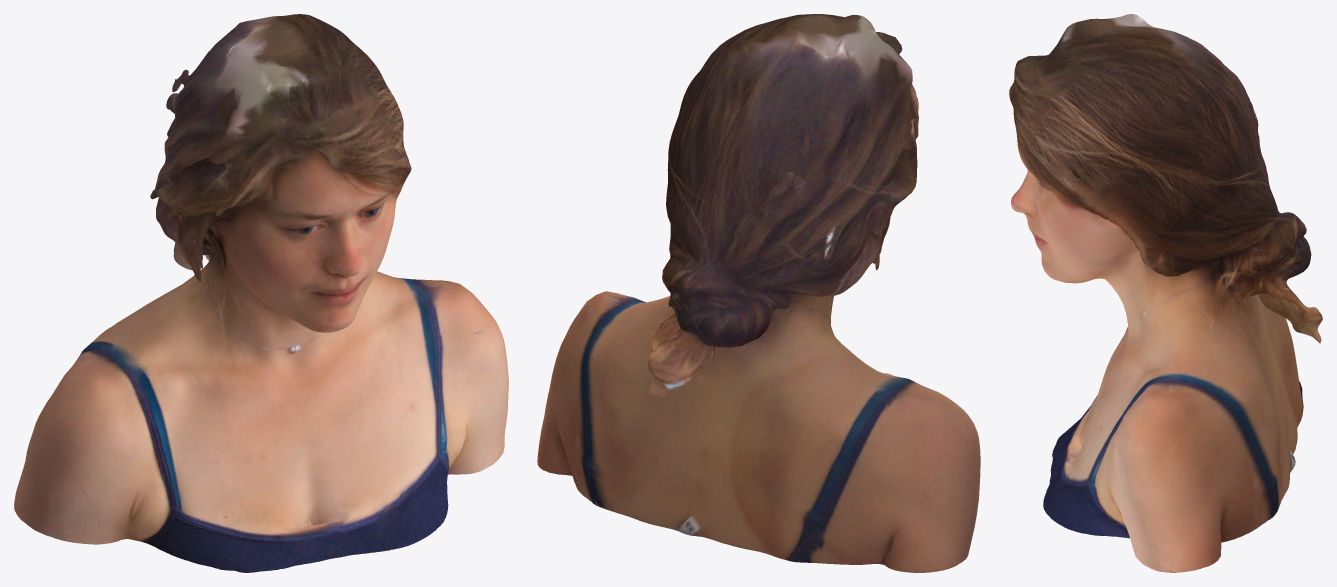
Rendered from charlotte_downs.glb.
The picture shows the model from 3 angles, left to right: view 1: azimuth 30°, elevation 25°; view 2: azimuth 150°, elevation 25°; view 3: azimuth 270°, elevation 25°; orthographic projection. The views are drawn at different scales.
Parts seen in each view (by area): view 1: Object_2; view 2: Object_2; view 3: Object_2.
Boxes of the visible parts, bbox=[...] form: Object_2: bbox=[14, 14, 508, 572]; Object_2: bbox=[537, 14, 980, 572]; Object_2: bbox=[1009, 14, 1322, 572].
Bounding box in the file's own units: 0.4382 × 0.4622 × 0.2927.
Materials: 1 (1 with a texture image).
